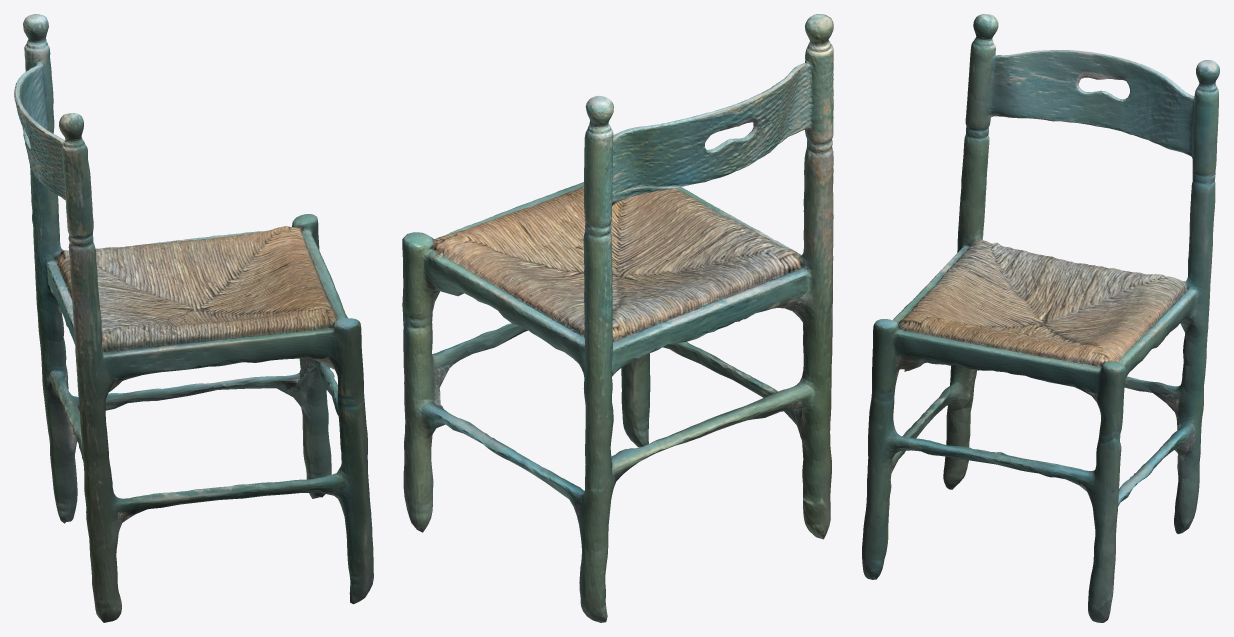
The model's file is chaise.glb.
3 views of the same model, side by side, from view 1: azimuth 30°, elevation 25°; view 2: azimuth 150°, elevation 25°; view 3: azimuth 270°, elevation 25° (orthographic). The views are drawn at different scales.
Bounding box in the file's own units: 0.7378 × 1.08 × 0.7439.
1 material, 1 textured.
